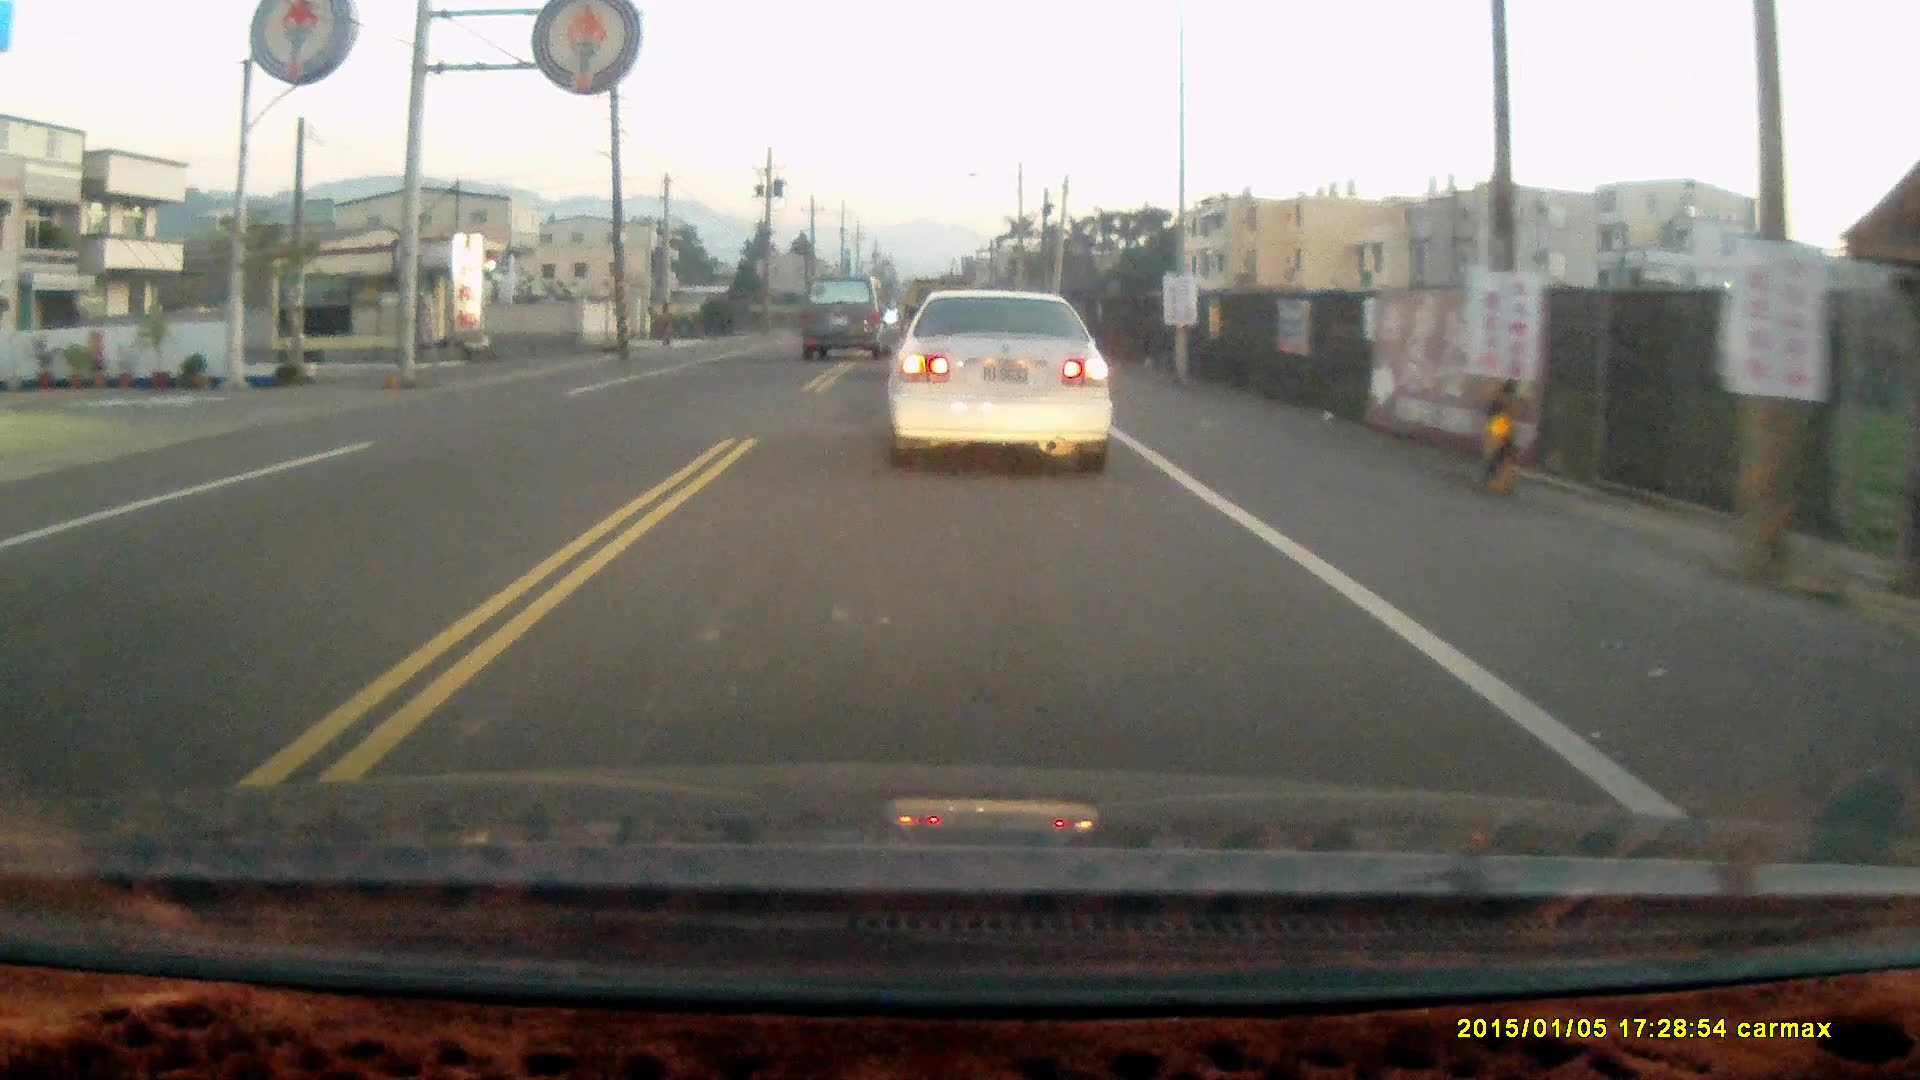vehicle: (884, 289, 1124, 480), (795, 272, 898, 363)
